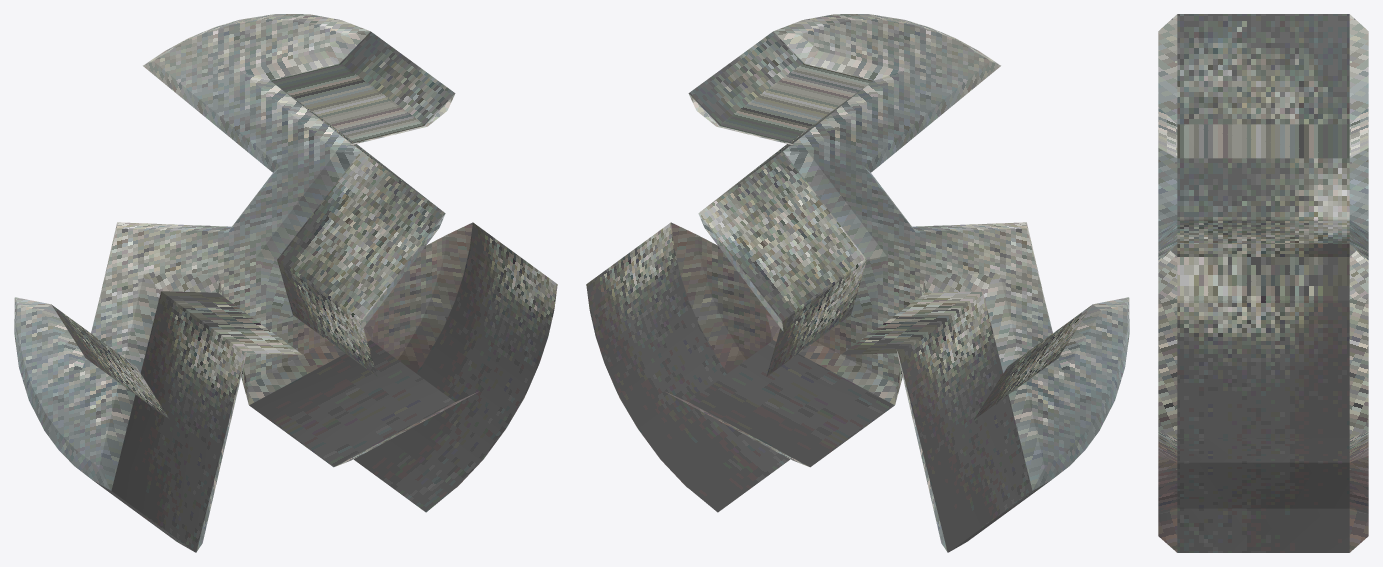
The model's file is ps2_save-icons_ringofred.glb.
The picture shows the model from 3 angles, left to right: view 1: azimuth 30°, elevation 25°; view 2: azimuth 150°, elevation 25°; view 3: azimuth 270°, elevation 25°; orthographic projection.
Visible parts, largest first — view 1: mark.ico; view 2: mark.ico; view 3: mark.ico.
Part boxes in pixels (<box>): mark.ico: <box>14,14,557,552</box>; mark.ico: <box>586,14,1129,552</box>; mark.ico: <box>1158,14,1368,552</box>.
Size of the model in its own units: 4.79 by 4.55 by 1.87.
Materials: 1 (1 with a texture image).
